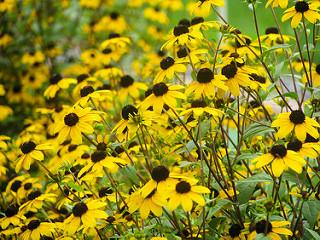sunflower: (51, 105, 101, 143), (109, 104, 165, 135), (139, 168, 199, 196), (253, 143, 305, 173), (273, 107, 320, 140), (164, 181, 208, 211), (138, 82, 185, 110), (65, 198, 106, 230), (187, 67, 226, 100), (82, 151, 128, 176), (282, 0, 320, 30), (15, 138, 53, 167), (160, 25, 200, 52), (182, 97, 225, 121), (17, 218, 63, 240), (151, 57, 189, 83), (248, 220, 295, 240), (73, 85, 118, 104), (116, 74, 148, 98)
